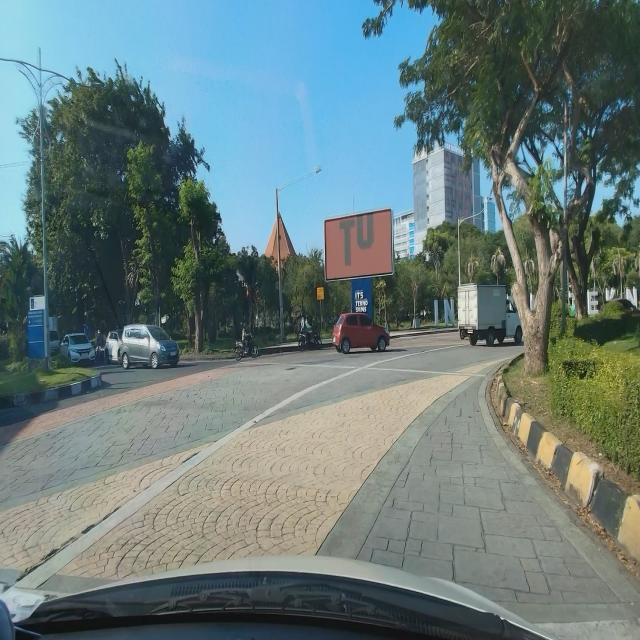truck: (456, 281, 525, 346)
